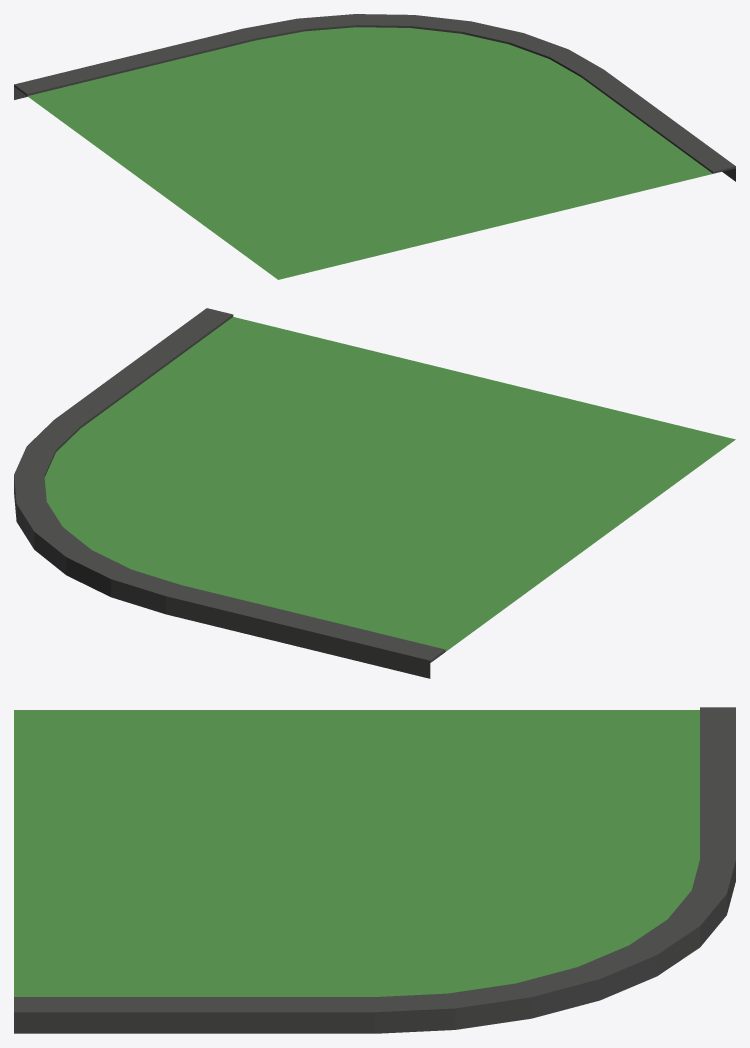
Rendered from M_Grass350x350_6.fbx.
3 views of the same model, one above another, from view 1: azimuth 30°, elevation 25°; view 2: azimuth 150°, elevation 25°; view 3: azimuth 270°, elevation 25° (orthographic). The views are drawn at different scales.
Parts seen in each view (by area): view 1: M_Grass350x350_6; view 2: M_Grass350x350_6; view 3: M_Grass350x350_6.
Part boxes in pixels (x1,y1,x2,y2): M_Grass350x350_6: (14, 14, 735, 279); M_Grass350x350_6: (14, 308, 735, 678); M_Grass350x350_6: (14, 707, 735, 1033).
Size of what is drawn, in the model's own units: 350 by 350 by 11.5.
